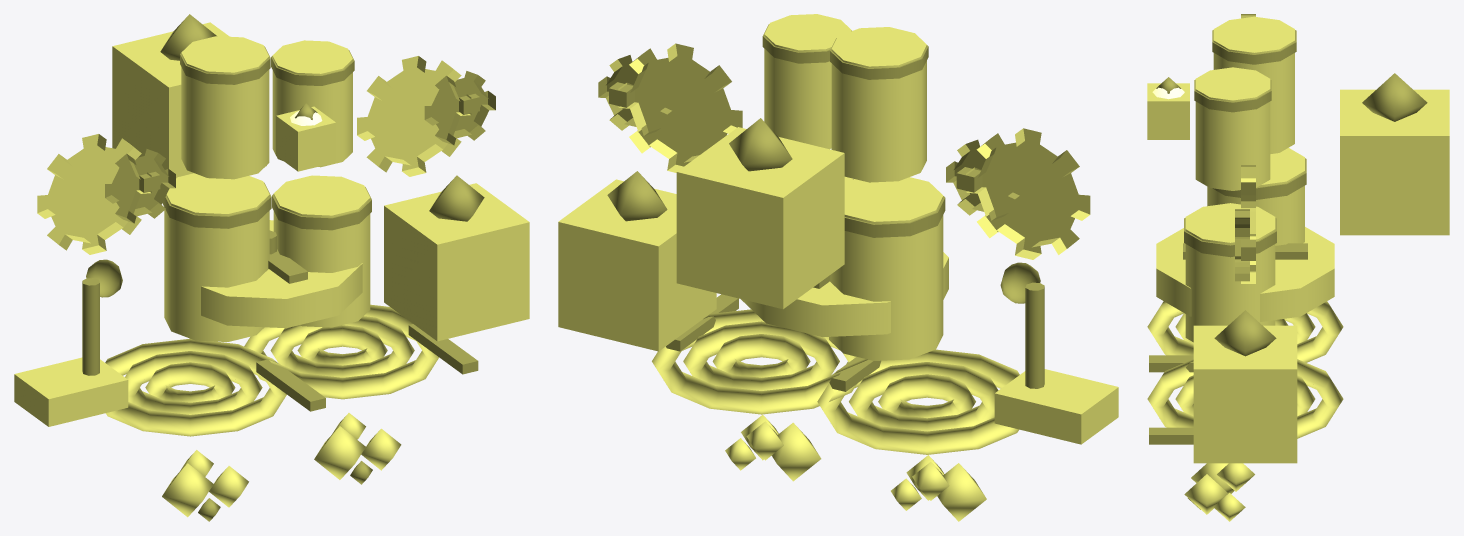
The model's file is golem_084.glb.
3 views of the same model, side by side, from view 1: azimuth 30°, elevation 25°; view 2: azimuth 150°, elevation 25°; view 3: azimuth 270°, elevation 25° (orthographic). The views are drawn at different scales.
Parts seen in each view (by area): view 1: Body, Detail; view 2: Body, Detail; view 3: Body, Detail.
Part boxes in pixels (<box>): Body: <box>14,22,529,517</box>; Detail: <box>82,14,495,521</box>; Body: <box>558,14,1118,521</box>; Detail: <box>598,24,1044,391</box>; Body: <box>1147,14,1449,521</box>; Detail: <box>1149,30,1427,509</box>.
Size of the model in its own units: 1.52 by 1.35 by 0.8715.
